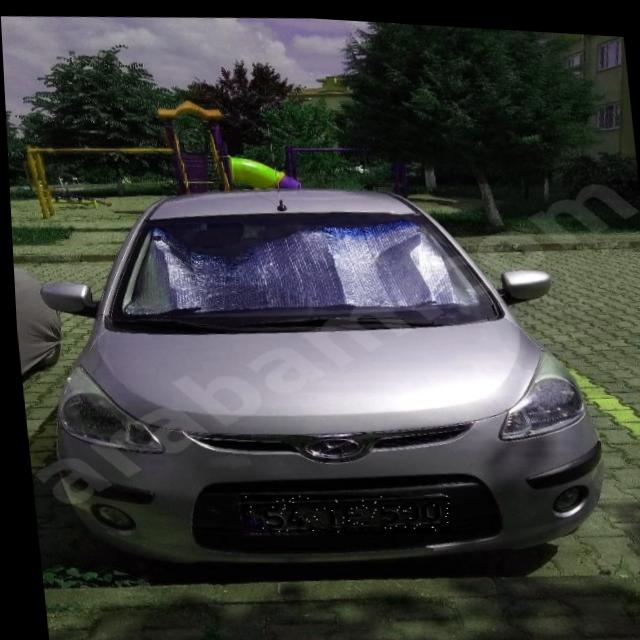license_plate: (234, 480, 448, 539)
